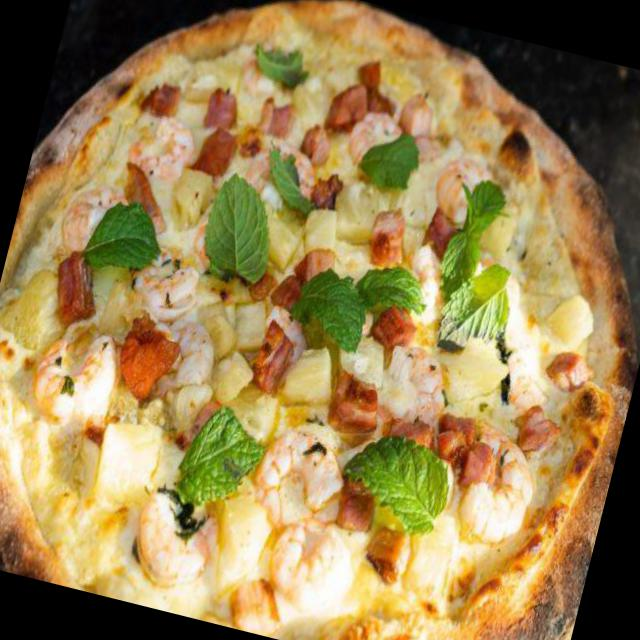camarao: (242, 414, 360, 540), (23, 314, 126, 448), (122, 479, 226, 596), (450, 436, 547, 554), (258, 512, 357, 621), (374, 338, 458, 436), (124, 112, 200, 198), (350, 104, 404, 172)
pizza: (0, 0, 639, 639)
